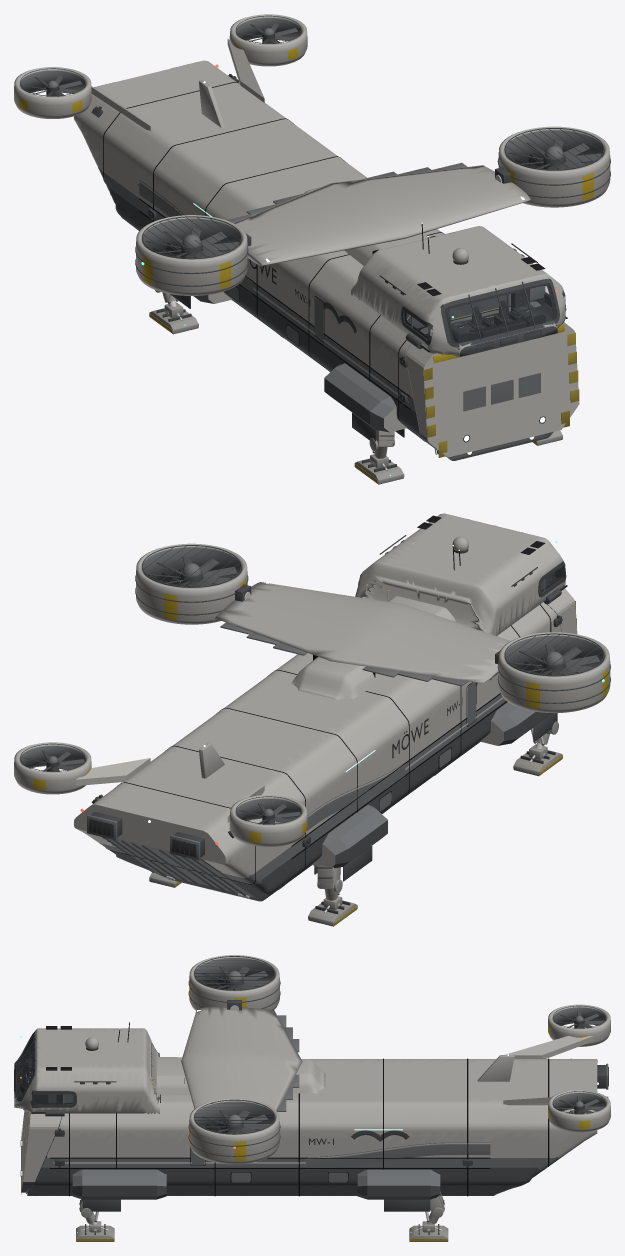
Rendered from Moewe.glb.
3 views of the same model, one above another, from view 1: azimuth 30°, elevation 25°; view 2: azimuth 150°, elevation 25°; view 3: azimuth 270°, elevation 25° (orthographic). The views are drawn at different scales.
Parts seen in each view (by area): view 1: Fahrwerkskasten hinten.002, Haube.001, Mantel.003, Bugplatte.001, Mantel.002, Kanzelglas.001, Duesenblock.008, Duesenrahmen.002, Bandkante.004, Gitterstab.018, Gitterstab.027, cp CP Formteil.001 (+10 smaller); view 2: Fahrwerkskasten hinten.002, Bugplatte.001, Mantel.003, Mantel.002, Duesenrahmen.002, Bandkante.004, Rampenhaut.003, Duesenblock.008, Gitterstab.018, Gitterstab.027, Rampenblatt.003, Bandlinie.002 (+8 smaller); view 3: Fahrwerkskasten hinten.002, Bugplatte.001, Mantel.002, Duesenrahmen.002, Mantel.003, Duesenblock.008, Bandkante.004, Haube.001, Bandlinie.002, Gitterstab.018, Gitterstab.027, Kanzelglas.001 (+9 smaller).
Part boxes in pixels (bbox=[...]): Fahrwerkskasten hinten.002: bbox=[14, 14, 565, 459]; Haube.001: bbox=[406, 322, 579, 457]; Mantel.003: bbox=[136, 215, 247, 295]; Bugplatte.001: bbox=[20, 18, 552, 459]; Mantel.002: bbox=[498, 126, 610, 207]; Kanzelglas.001: bbox=[404, 284, 556, 350]; Duesenblock.008: bbox=[20, 15, 566, 454]; Duesenrahmen.002: bbox=[47, 28, 468, 454]; Bandkante.004: bbox=[103, 82, 444, 441]; Gitterstab.018: bbox=[495, 128, 610, 198]; Gitterstab.027: bbox=[135, 216, 251, 286]; cp CP Formteil.001: bbox=[417, 289, 545, 342]; Fahrwerkskasten hinten.002: bbox=[14, 513, 565, 901]; Bugplatte.001: bbox=[20, 604, 555, 885]; Mantel.003: bbox=[498, 632, 610, 713]; Mantel.002: bbox=[136, 543, 247, 624]; Duesenrahmen.002: bbox=[47, 621, 476, 860]; Bandkante.004: bbox=[106, 604, 551, 889]; Rampenhaut.003: bbox=[106, 838, 257, 898]; Duesenblock.008: bbox=[20, 519, 566, 857]; Gitterstab.018: bbox=[135, 545, 251, 615]; Gitterstab.027: bbox=[495, 633, 610, 703]; Rampenblatt.003: bbox=[106, 838, 256, 897]; Bandlinie.002: bbox=[199, 536, 503, 817]; Fahrwerkskasten hinten.002: bbox=[14, 1004, 610, 1199]; Bugplatte.001: bbox=[29, 1007, 605, 1190]; Mantel.002: bbox=[189, 1098, 279, 1164]; Duesenrahmen.002: bbox=[26, 1015, 608, 1193]; Mantel.003: bbox=[189, 955, 279, 1010]; Duesenblock.008: bbox=[14, 1005, 605, 1195]; Bandkante.004: bbox=[50, 1058, 549, 1196]; Haube.001: bbox=[21, 1111, 61, 1191]; Bandlinie.002: bbox=[53, 1037, 514, 1164]; Gitterstab.018: bbox=[188, 1099, 280, 1156]; Gitterstab.027: bbox=[188, 956, 280, 1010]; Kanzelglas.001: bbox=[16, 1035, 72, 1104].
Bounding box in the file's own units: 26.81 × 12.15 × 36.88.
